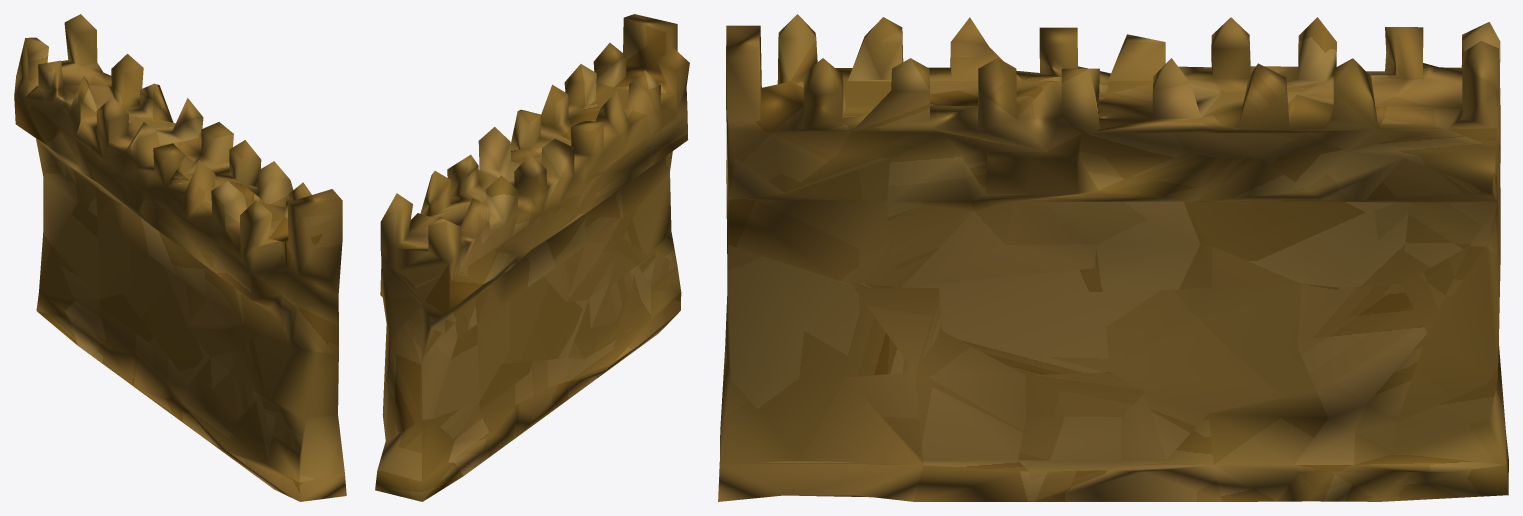
The model's file is castle_wall_gold_lo.glb.
3 views of the same model, side by side, from view 1: azimuth 30°, elevation 25°; view 2: azimuth 150°, elevation 25°; view 3: azimuth 270°, elevation 25° (orthographic). The views are drawn at different scales.
Visible parts, largest first — view 1: tripo_node_62d550bf-6d5e-4ff5-a318-d668af69aba0; view 2: tripo_node_62d550bf-6d5e-4ff5-a318-d668af69aba0; view 3: tripo_node_62d550bf-6d5e-4ff5-a318-d668af69aba0.
Part boxes in pixels (box(x1,y1,x2,y2)): tripo_node_62d550bf-6d5e-4ff5-a318-d668af69aba0: box(14, 14, 346, 501); tripo_node_62d550bf-6d5e-4ff5-a318-d668af69aba0: box(375, 14, 689, 501); tripo_node_62d550bf-6d5e-4ff5-a318-d668af69aba0: box(718, 14, 1508, 501).
Size of the model in its own units: 0.1637 by 0.6131 by 0.9727.
Materials: 1 (1 with a texture image).
